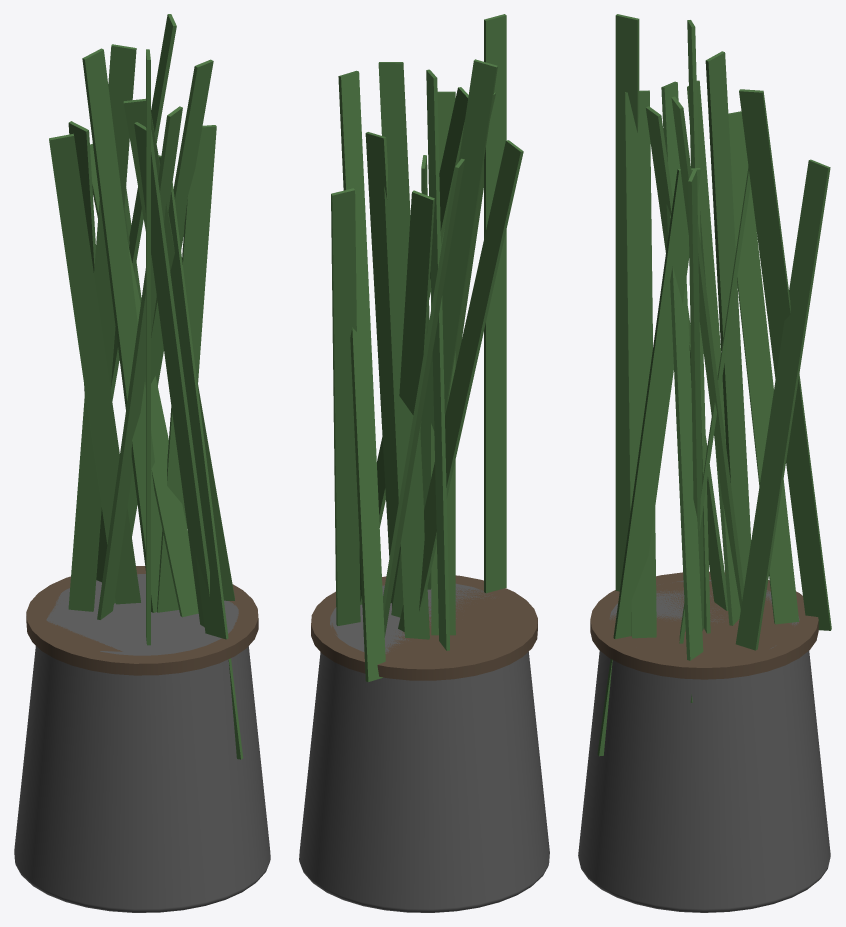
File: hotel-snake-plant.glb
3 views of the same model, side by side, from view 1: azimuth 30°, elevation 25°; view 2: azimuth 150°, elevation 25°; view 3: azimuth 270°, elevation 25° (orthographic). The views are drawn at different scales.
Parts seen in each view (by area): view 1: planter, blade9, blade4, blade1, soil, blade2, blade13, blade10, blade12, blade0, blade8, blade5 (+3 smaller); view 2: planter, blade11, soil, blade8, blade7, blade3, blade4, blade9, blade13, blade1, blade0, blade6 (+3 smaller); view 3: planter, blade11, soil, blade3, blade2, blade10, blade6, blade1, blade7, blade5, blade8, blade9 (+4 smaller).
Part boxes in pixels (bbox=[...]): planter: bbox=[14, 574, 270, 912]; blade9: bbox=[49, 133, 140, 604]; blade4: bbox=[82, 48, 162, 612]; blade1: bbox=[68, 44, 136, 611]; soil: bbox=[26, 566, 258, 675]; blade2: bbox=[134, 122, 209, 626]; blade13: bbox=[157, 125, 216, 612]; blade10: bbox=[158, 155, 243, 759]; blade12: bbox=[97, 106, 182, 619]; blade0: bbox=[90, 143, 198, 617]; blade8: bbox=[114, 59, 213, 603]; blade5: bbox=[123, 98, 234, 600]; planter: bbox=[299, 583, 549, 912]; blade11: bbox=[338, 70, 385, 681]; soil: bbox=[311, 575, 537, 680]; blade8: bbox=[378, 62, 429, 639]; blade7: bbox=[484, 14, 506, 593]; blade3: bbox=[331, 188, 360, 625]; blade4: bbox=[391, 59, 497, 617]; blade9: bbox=[398, 140, 523, 631]; blade13: bbox=[365, 132, 400, 607]; blade1: bbox=[426, 69, 449, 650]; blade0: bbox=[390, 190, 434, 602]; blade6: bbox=[383, 158, 464, 637]; planter: bbox=[578, 580, 830, 912]; blade11: bbox=[739, 89, 831, 630]; soil: bbox=[590, 571, 818, 679]; blade3: bbox=[735, 159, 830, 650]; blade2: bbox=[625, 90, 656, 638]; blade10: bbox=[597, 168, 701, 756]; blade6: bbox=[728, 111, 799, 624]; blade1: bbox=[705, 51, 751, 587]; blade7: bbox=[615, 14, 639, 591]; blade5: bbox=[661, 81, 703, 702]; blade8: bbox=[671, 96, 743, 609]; blade9: bbox=[687, 80, 740, 625].
Bounding box in the file's own units: 0.3981 × 1.44 × 0.3998.
